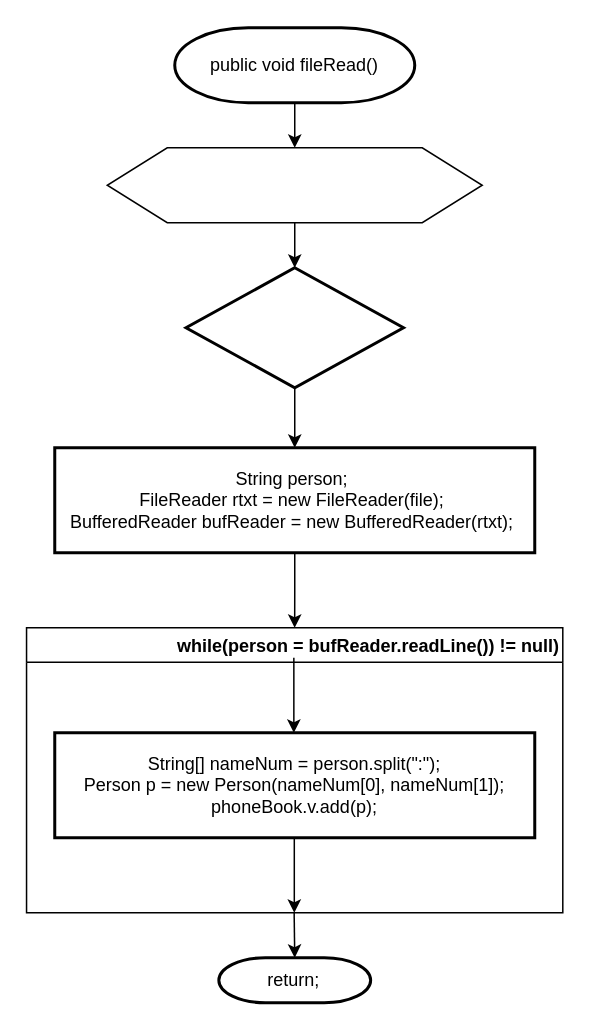
The diagram is 590 pixels wide and 1029 high, and some of its shapes have lost their labels. Here are the shapes that lost their labels. From the top down, the centre of each, then its label:
(294,184): file = new File("C:\\Temp\\PhoneBook.txt");
(294,327): file.exists()
